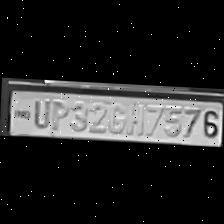2: (85, 100, 109, 132)
3: (66, 100, 87, 132)
5: (159, 104, 182, 138)
6: (196, 105, 220, 138)
7: (138, 101, 160, 137), (178, 104, 198, 138)
P: (47, 97, 67, 130)
U: (29, 96, 51, 128)
